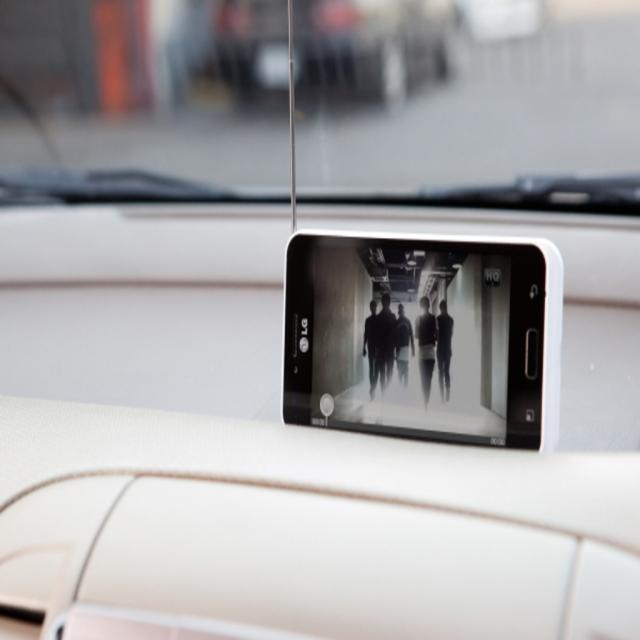Mobile-phone: (283, 226, 546, 450)
